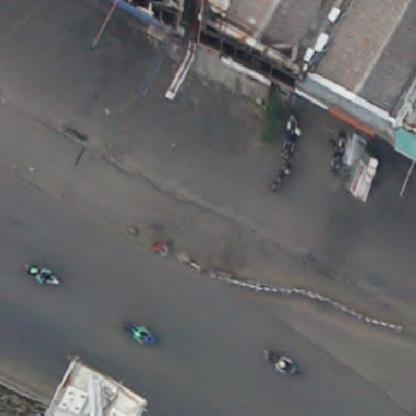Motorcycle: (16, 258, 66, 290), (262, 342, 304, 380), (121, 320, 159, 348), (327, 130, 348, 175), (281, 113, 301, 156), (270, 160, 294, 192)
